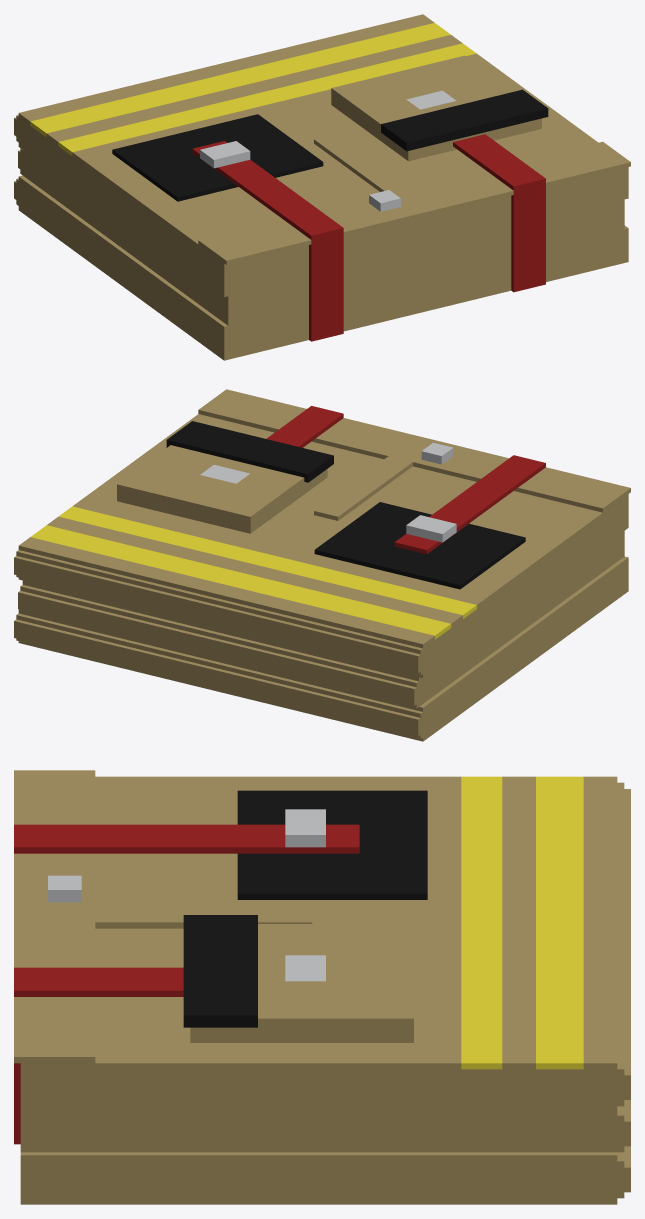
Rendered from bunker_pants.glb.
The picture shows the model from 3 angles, top to bottom: view 1: azimuth 30°, elevation 25°; view 2: azimuth 150°, elevation 25°; view 3: azimuth 270°, elevation 25°; orthographic projection. The views are drawn at different scales.
Visible parts, largest first — view 1: bunker_pants:compound; view 2: bunker_pants:compound; view 3: bunker_pants:compound.
Part boxes in pixels (x1=…): bunker_pants:compound: x1=14, y1=14, x2=630, y2=360; bunker_pants:compound: x1=14, y1=389, x2=630, y2=741; bunker_pants:compound: x1=14, y1=770, x2=630, y2=1204.
Size of the model in its own units: 0.4 by 0.112 by 0.364.
